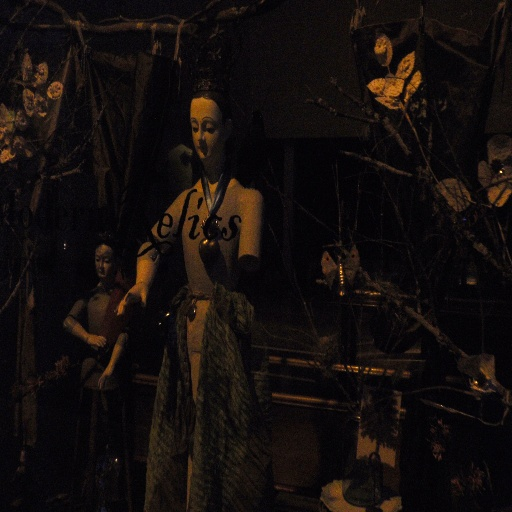hand: (113, 279, 150, 318), (95, 367, 113, 391), (87, 334, 106, 353)
